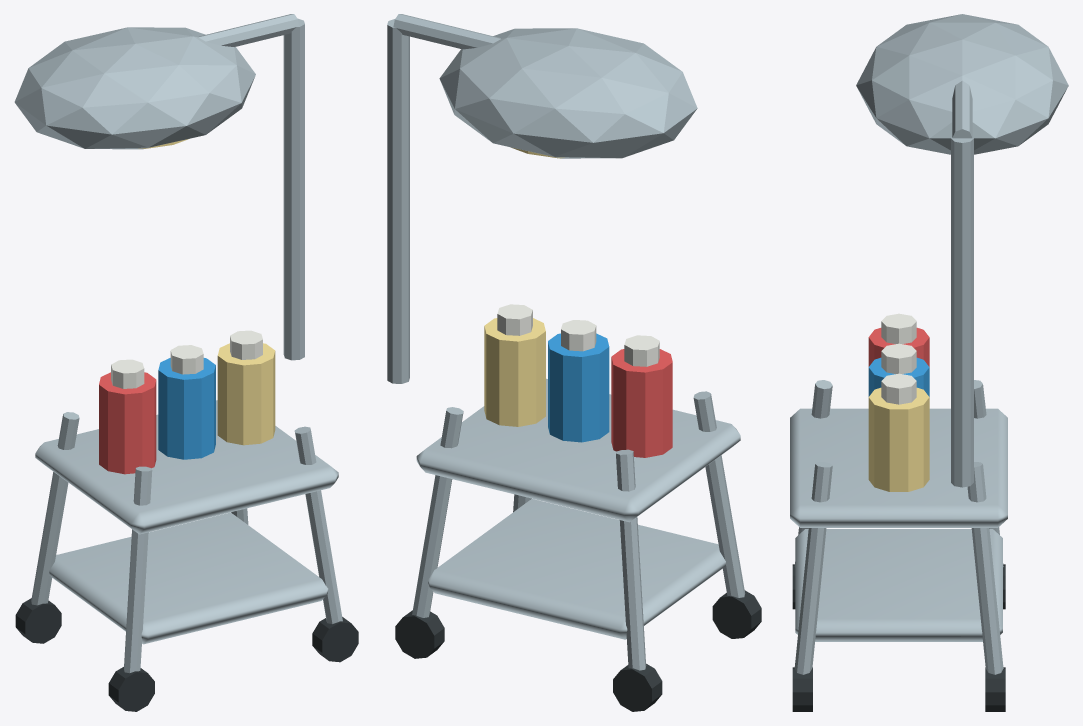
File: botiquin_carrito_lampara_r2.glb
3 views of the same model, side by side, from view 1: azimuth 30°, elevation 25°; view 2: azimuth 150°, elevation 25°; view 3: azimuth 270°, elevation 25° (orthographic). The views are drawn at different scales.
Visible parts, largest first — view 1: Concave surgical lamp, Lower trolley shelf, Upper trolley tray, Lamp stem, Medicine bottle.002, Medicine bottle.001, Medicine bottle, Trolley leg, Trolley leg.001, Trolley leg.002, Lamp arm, Caster (+5 smaller); view 2: Concave surgical lamp, Lower trolley shelf, Upper trolley tray, Lamp stem, Medicine bottle.002, Medicine bottle.001, Medicine bottle, Trolley leg.001, Trolley leg, Trolley leg.003, Lamp arm, Caster.001 (+5 smaller); view 3: Concave surgical lamp, Lower trolley shelf, Upper trolley tray, Lamp stem, Medicine bottle.002, Trolley leg.002, Trolley leg.003, Lamp arm, Bottle cap.002, Medicine bottle.001, Medicine bottle, Bottle cap (+5 smaller).
Part boxes in pixels (box(x1,y1,x2,y2)): Concave surgical lamp: box(14, 27, 255, 149); Lower trolley shelf: box(49, 512, 328, 644); Upper trolley tray: box(35, 400, 338, 534); Lamp stem: box(283, 18, 304, 360); Medicine bottle.002: box(217, 343, 275, 445); Medicine bottle.001: box(158, 358, 215, 459); Medicine bottle: box(99, 372, 156, 474); Trolley leg: box(124, 466, 152, 673); Trolley leg.001: box(31, 412, 79, 605); Trolley leg.002: box(294, 426, 342, 623); Lamp arm: box(198, 14, 298, 46); Caster: box(108, 667, 154, 711); Concave surgical lamp: box(439, 28, 697, 158); Lower trolley shelf: box(428, 499, 725, 639); Upper trolley tray: box(416, 378, 740, 522); Lamp stem: box(387, 19, 409, 383); Medicine bottle.002: box(484, 318, 545, 426); Medicine bottle.001: box(548, 333, 609, 442); Medicine bottle: box(611, 349, 672, 457); Trolley leg.001: box(616, 449, 646, 670); Trolley leg: box(693, 391, 745, 597); Trolley leg.003: box(412, 407, 463, 617); Lamp arm: box(393, 14, 500, 49); Caster.001: box(613, 663, 662, 711); Concave surgical lamp: box(856, 14, 1068, 154); Lower trolley shelf: box(795, 529, 1002, 641); Upper trolley tray: box(790, 408, 1007, 527); Lamp stem: box(951, 137, 973, 487); Medicine bottle.002: box(868, 387, 929, 491); Trolley leg.002: box(794, 462, 832, 674); Trolley leg.003: box(967, 462, 1003, 674); Lamp arm: box(952, 80, 972, 138); Bottle cap.002: box(881, 373, 916, 404); Medicine bottle.001: box(868, 357, 929, 396); Medicine bottle: box(868, 327, 929, 366); Bottle cap: box(881, 313, 916, 343).
Size of the model in its own units: 1.29 by 2.65 by 1.1.
